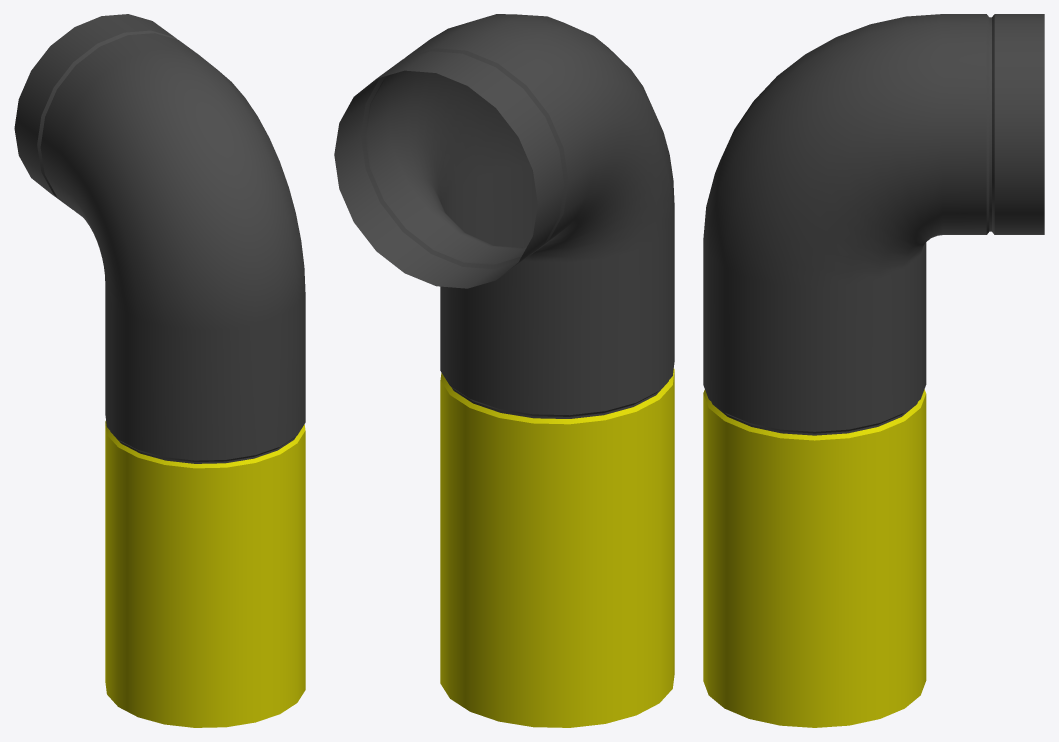
Rendered from env_building_supportleg.fbx.
3 views of the same model, side by side, from view 1: azimuth 30°, elevation 25°; view 2: azimuth 150°, elevation 25°; view 3: azimuth 270°, elevation 25° (orthographic). The views are drawn at different scales.
Visible parts, largest first — view 1: polySurface300; view 2: polySurface300; view 3: polySurface300.
Part boxes in pixels (bbox=[...]): polySurface300: bbox=[14, 14, 305, 727]; polySurface300: bbox=[334, 14, 674, 727]; polySurface300: bbox=[703, 14, 1044, 727].
Bounding box in the file's own units: 0.5378 × 1.75 × 0.8238.
